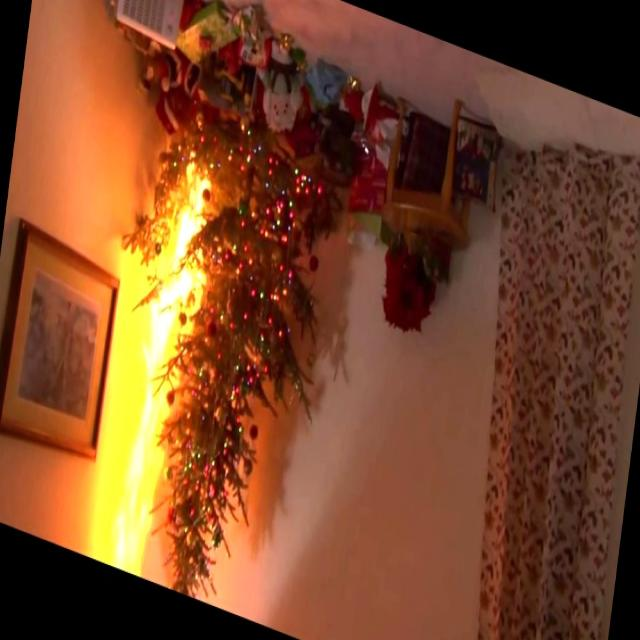fire: (82, 258, 196, 584)
